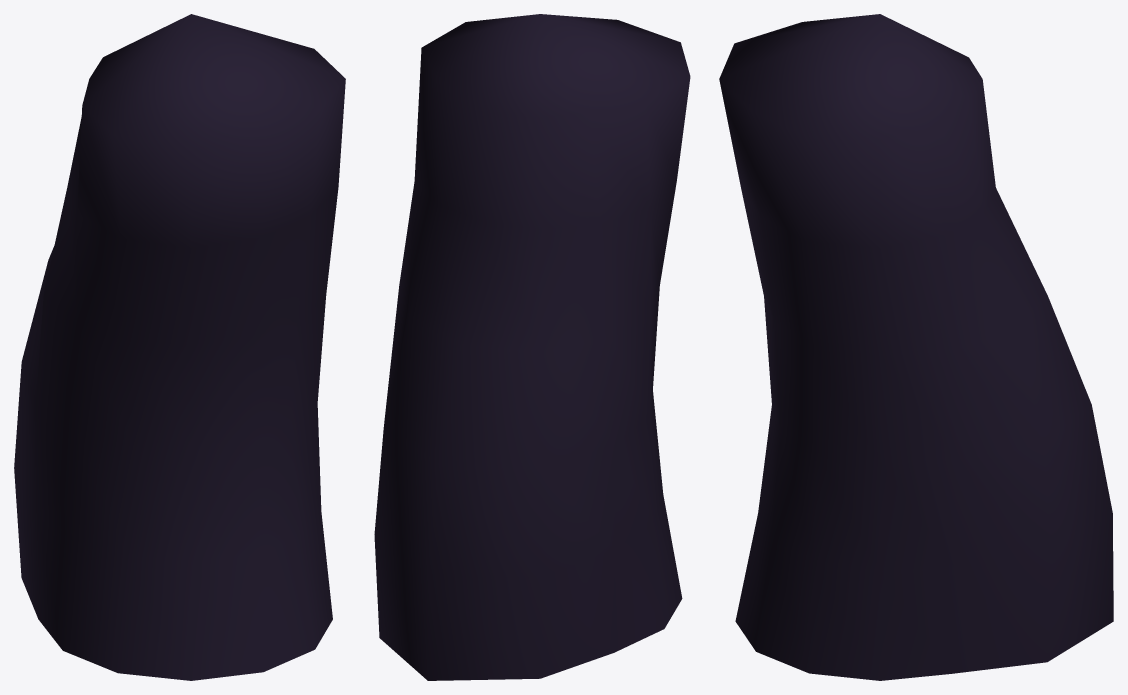
The model's file is witch_costume_boot.R.glb.
3 renders of one model, left to right at view 1: azimuth 30°, elevation 25°; view 2: azimuth 150°, elevation 25°; view 3: azimuth 270°, elevation 25°, orthographic. The views are drawn at different scales.
Parts seen in each view (by area): view 1: witch_costume_boot.R; view 2: witch_costume_boot.R; view 3: witch_costume_boot.R.
Part boxes in pixels (x1,y1,x2,y2): witch_costume_boot.R: (14, 14, 345, 680); witch_costume_boot.R: (374, 14, 690, 680); witch_costume_boot.R: (719, 14, 1113, 680).
Bounding box in the file's own units: 0.1257 × 0.288 × 0.1695.
